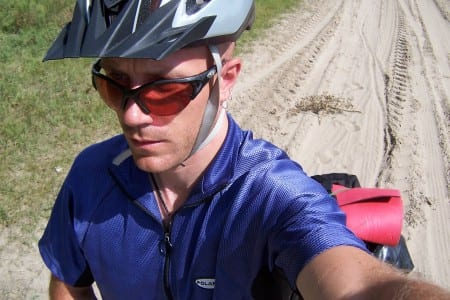helmet: (42, 1, 255, 173)
